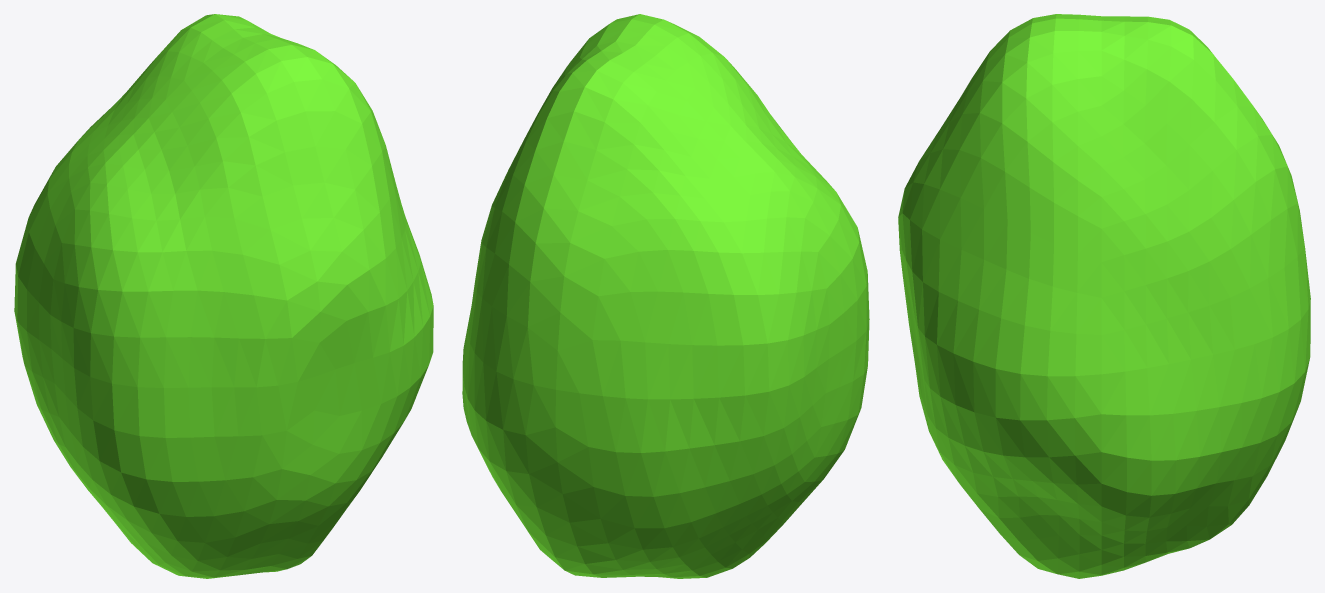
The picture shows the model from 3 angles, left to right: view 1: azimuth 30°, elevation 25°; view 2: azimuth 150°, elevation 25°; view 3: azimuth 270°, elevation 25°; orthographic projection. The views are drawn at different scales.
Size of the model in its own units: 0.8624 by 1.22 by 0.8354.
